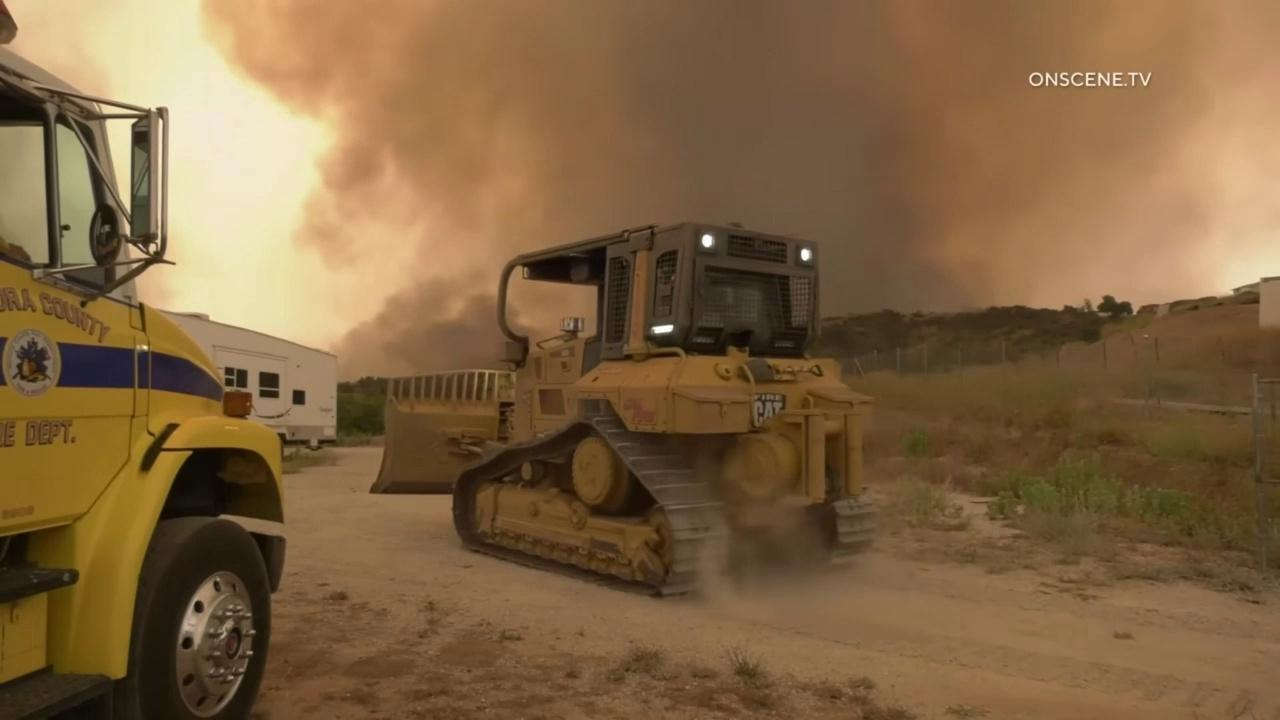smoke: (194, 1, 1280, 378)
